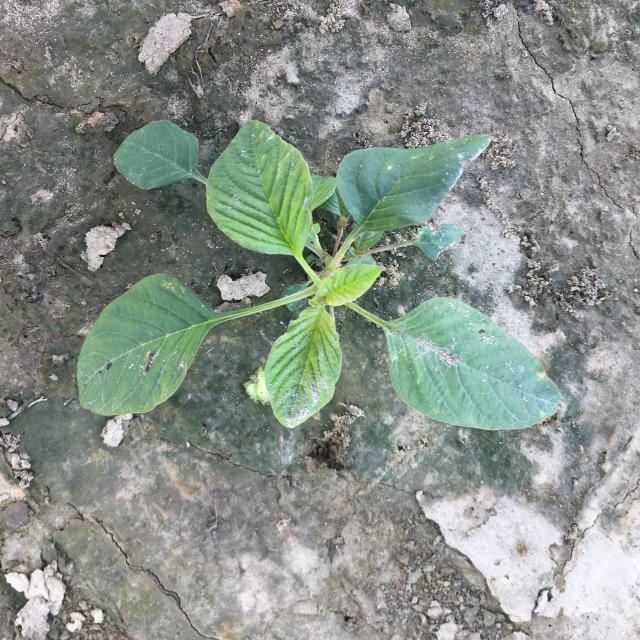PalmerAmaranth: (77, 120, 562, 430)
